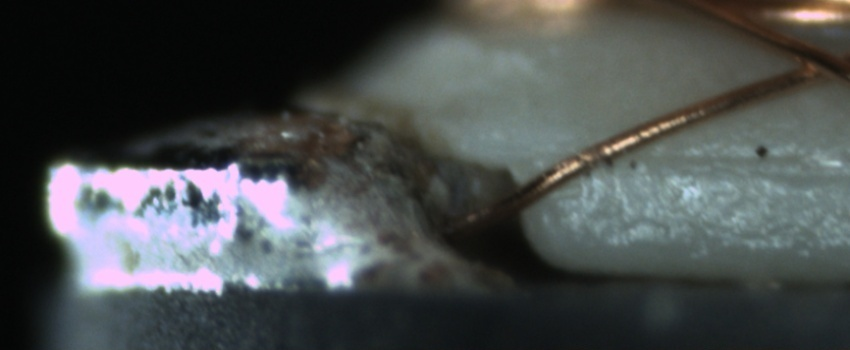CL: (771, 36, 849, 90)
DL: (570, 131, 841, 199)
